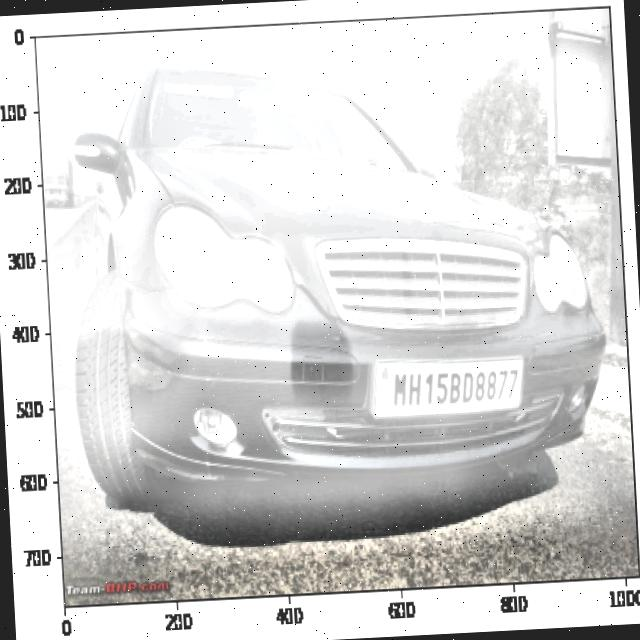license_plate: (382, 356, 528, 414)
